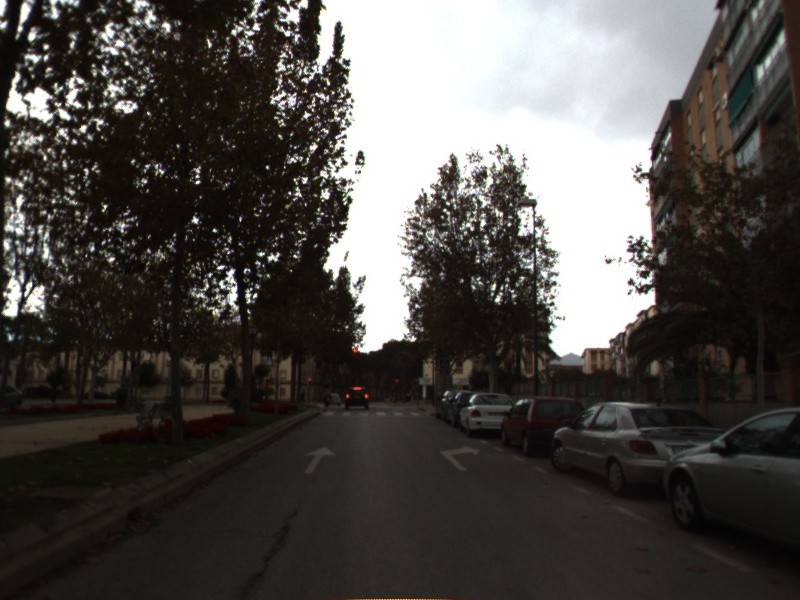RIGHT: (436, 441, 482, 473)
STRAIGHT: (301, 444, 338, 476)
